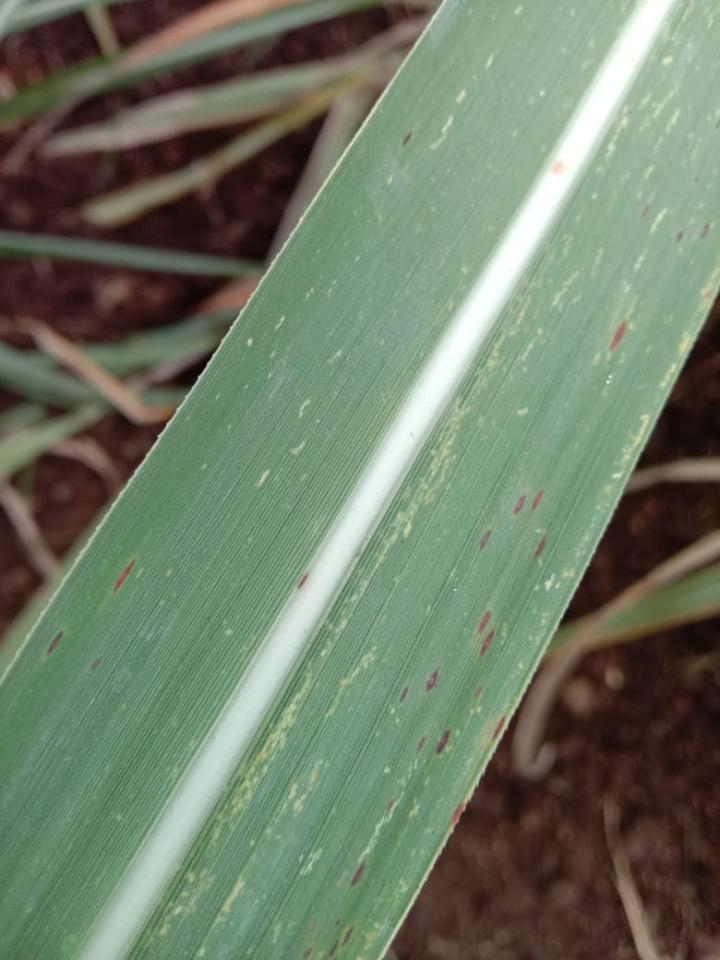Rust: (105, 554, 145, 598), (473, 606, 499, 661), (604, 314, 632, 357), (326, 921, 358, 958), (39, 626, 72, 661), (431, 726, 457, 761), (486, 712, 511, 746), (346, 857, 370, 892), (423, 663, 443, 697), (508, 491, 529, 519), (449, 798, 468, 828), (526, 487, 547, 514), (475, 526, 495, 554), (530, 533, 550, 561), (393, 684, 414, 710), (395, 129, 418, 152), (697, 219, 716, 244), (294, 569, 313, 593), (85, 653, 104, 675), (413, 732, 430, 756), (638, 203, 655, 222), (384, 795, 398, 816), (672, 229, 685, 249), (298, 945, 315, 959), (332, 916, 341, 929)
